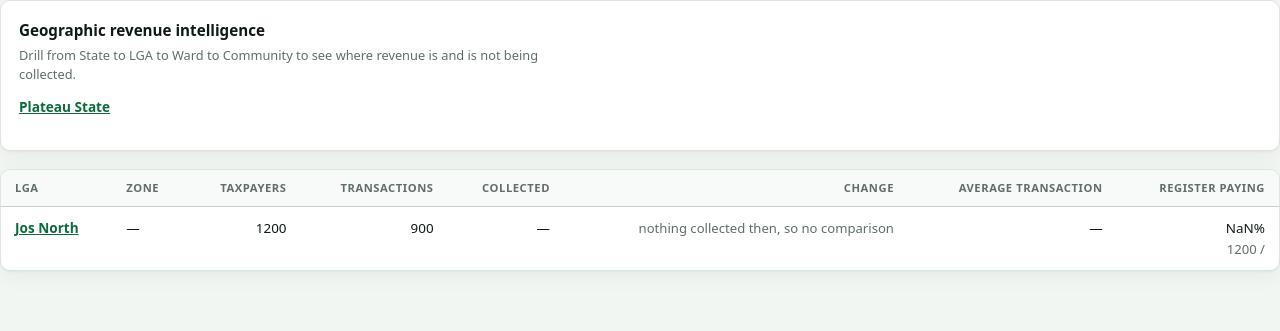
Scenario: a drill-down that hits a failure › keeps the way back up
The width and height of the screenshot is (1280, 331).
Click the button "Jos North".
click(47, 229)  # box [15,218,79,239]
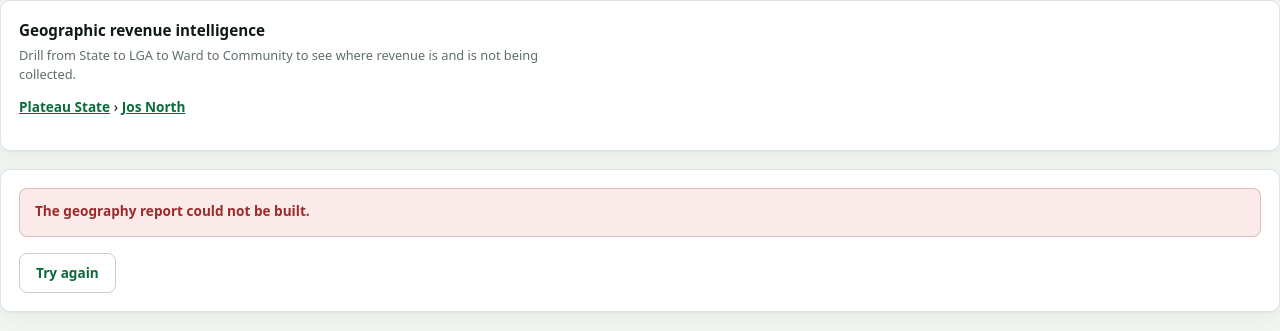
Expected: the button "Plateau State" is shown, [19,97,110,118]
Expected: the text "The geography report could not be built." is shown, [35,201,310,220]
